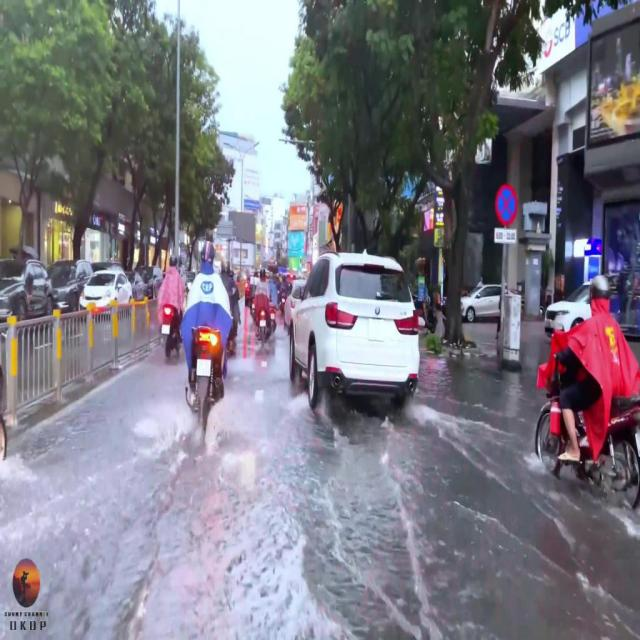cam_dung_xe_va_do_xe: (496, 186, 518, 227)
khac: (494, 228, 516, 243)
